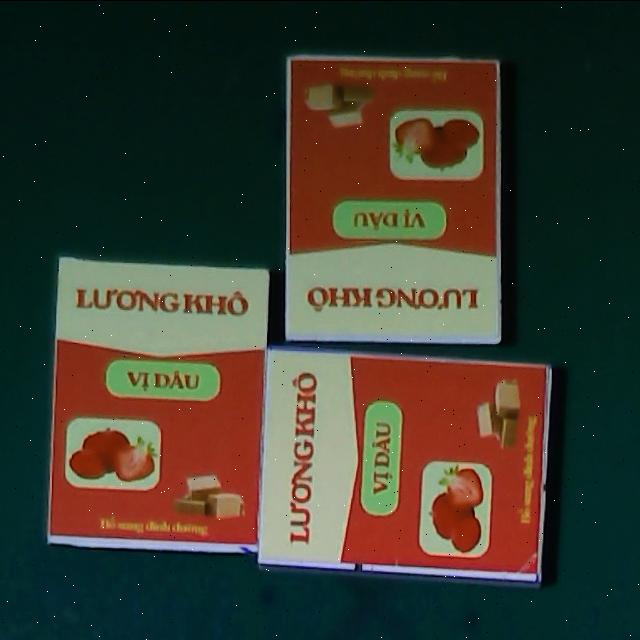dau: (250, 343, 559, 587), (43, 256, 269, 555), (286, 55, 501, 343)
